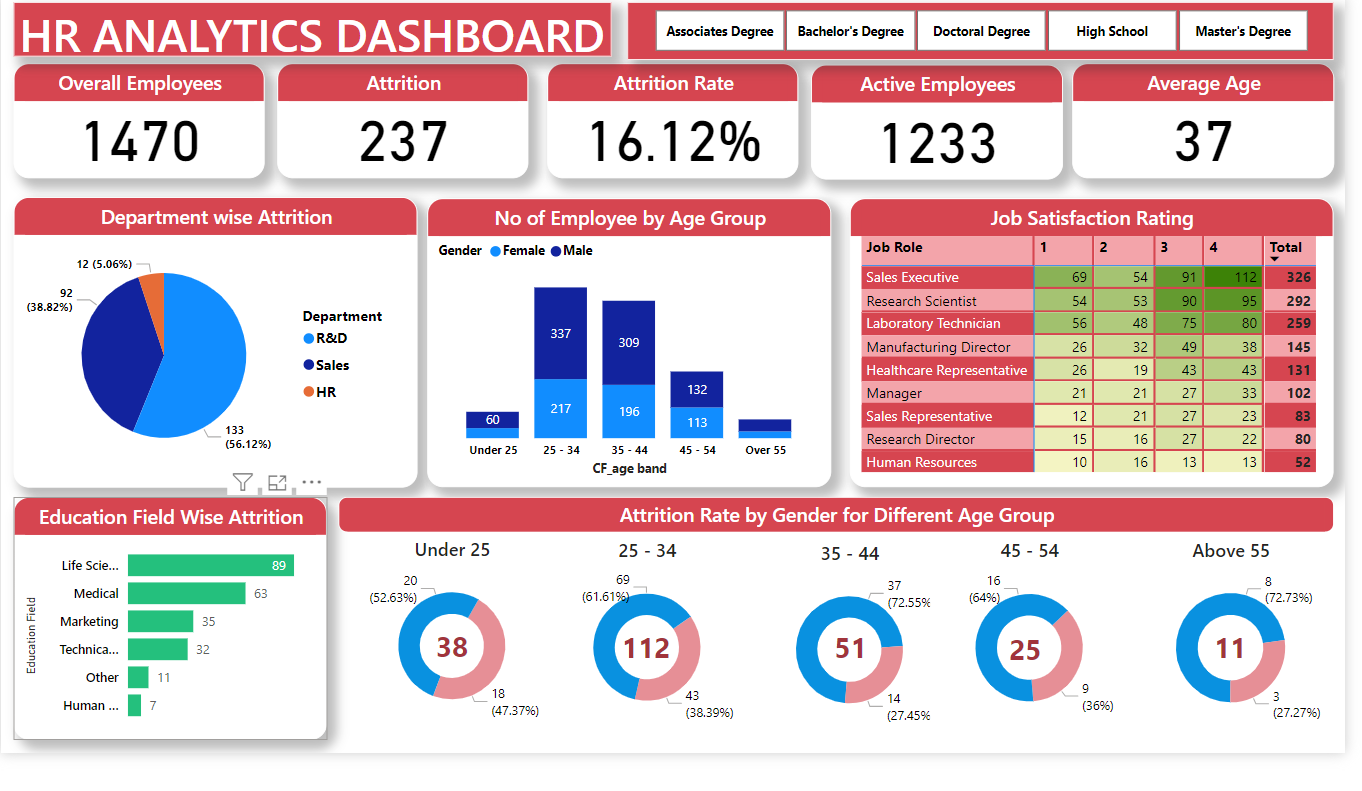

What the dashboard file says about the page in this screenshot:
{"tool":"powerbi","page":{"name":"Page 1","canvas":[1280,720],"ordinal":0},"visuals":[{"type":"card","title":"Overall Employees","fields":{"Values":["Sum(HR data.Employee Count)"]},"box":[12.3,63,239.5,109.9],"z":0},{"type":"card","title":"Attrition","fields":{"Values":["Sum(HR data.Attrition Count)"]},"box":[263,63,239.5,109.9],"z":1000},{"type":"card","title":"Attrition Rate","fields":{"Values":["HR data.Attrition rate"]},"box":[519.8,63,239.5,109.9],"z":2000},{"type":"card","title":"Active Employees","fields":{"Values":["HR data.Active employees"]},"box":[770.9,63.9,240.1,109.8],"z":3000},{"type":"card","title":"Average Age","fields":{"Values":["Avg(HR data.Age)"]},"box":[1019.8,63,249.4,109.9],"z":4000},{"type":"pieChart","title":"Department wise Attrition","fields":{"Category":["HR data.Department"],"Y":["Sum(HR data.Attrition Count)"]},"box":[12.3,190.1,385.2,276.5],"z":5000},{"type":"columnChart","title":"No of Employee by Age Group","fields":{"Category":["HR data.CF_age band"],"Y":["Sum(HR data.Employee Count)"],"Series":["HR data.Gender"]},"box":[406.2,191.4,385.2,275.3],"z":6000},{"type":"pivotTable","title":"Job Satisfaction Rating","fields":{"Rows":["HR data.Job Role"],"Columns":["HR data.Job Satisfaction"],"Values":["Sum(HR data.Employee Count)"]},"box":[808.6,191.4,460.5,275.3],"z":7000},{"type":"barChart","title":"Education Field Wise Attrition","fields":{"Category":["HR data.Education Field"],"Y":["Sum(HR data.Attrition Count)"]},"box":[12.3,476.5,298.8,230.9],"z":8000},{"type":"donutChart","title":"Under 25","fields":{"Category":["HR data.Gender"],"Y":["Sum(HR data.Attrition Count)"],"Series":["HR data.CF_age band"]},"box":[334.5,508.3,189.3,196.4],"z":9000},{"type":"textbox","title":"Attrition Rate by Gender for Different Age Group","box":[321,476.5,948.1,33.3],"z":10000},{"type":"donutChart","title":"25 - 34","fields":{"Category":["HR data.Gender"],"Y":["Sum(HR data.Attrition Count)"],"Series":["HR data.CF_age band"]},"box":[520,509.1,189.4,196.6],"z":11000},{"type":"donutChart","title":"35 - 44","fields":{"Category":["HR data.Gender"],"Y":["Sum(HR data.Attrition Count)"],"Series":["HR data.CF_age band"]},"box":[713,511.5,189.4,196.6],"z":12000},{"type":"donutChart","title":"45 - 54","fields":{"Category":["HR data.Gender"],"Y":["Sum(HR data.Attrition Count)"],"Series":["HR data.CF_age band"]},"box":[884,509.9,188.9,197.5],"z":13000},{"type":"donutChart","title":"Above 55","fields":{"Category":["HR data.Gender"],"Y":["Sum(HR data.Attrition Count)"],"Series":["HR data.CF_age band"]},"box":[1072.8,509.9,196.3,197.5],"z":14000},{"type":"card","fields":{"Values":["Sum(HR data.Attrition Count)"]},"box":[394,591.7,71.4,54.8],"z":15000},{"type":"card","fields":{"Values":["Sum(HR data.Attrition Count)"]},"box":[580.3,592.4,70,55.5],"z":16000},{"type":"card","fields":{"Values":["Sum(HR data.Attrition Count)"]},"box":[773.3,592.4,71.2,55.5],"z":17000},{"type":"card","fields":{"Values":["Sum(HR data.Attrition Count)"]},"box":[940.7,593.8,70.4,55.6],"z":18000},{"type":"card","fields":{"Values":["Sum(HR data.Attrition Count)"]},"box":[1135.8,592.6,70.4,55.6],"z":19000},{"type":"textbox","title":"HR ANALYTICS DASHBOARD","box":[12.1,4.8,569.4,51.9],"z":20000},{"type":"slicer","fields":{"Values":["HR data.Education"]},"box":[596.8,4.8,672.6,54.8],"z":21000}]}

Visuals, with their boxes on the page's 1280x720 design canvas (x1, y1, x2, y2). These are canvas units, not pixel positions in the 1362x791 screenshot, which may show the page scaled, cropped or inside an application window:
"Overall Employees" card: 12/63/252/173
"Attrition" card: 263/63/502/173
"Attrition Rate" card: 520/63/759/173
"Active Employees" card: 771/64/1011/174
"Average Age" card: 1020/63/1269/173
"Department wise Attrition" pieChart: 12/190/398/467
"No of Employee by Age Group" columnChart: 406/191/791/467
"Job Satisfaction Rating" pivotTable: 809/191/1269/467
"Education Field Wise Attrition" barChart: 12/476/311/707
"Under 25" donutChart: 334/508/524/705
"Attrition Rate by Gender for Different Age Group" textbox: 321/476/1269/510
"25 - 34" donutChart: 520/509/709/706
"35 - 44" donutChart: 713/512/902/708
"45 - 54" donutChart: 884/510/1073/707
"Above 55" donutChart: 1073/510/1269/707
card - Sum(HR data.Attrition Count): 394/592/465/646
card - Sum(HR data.Attrition Count): 580/592/650/648
card - Sum(HR data.Attrition Count): 773/592/844/648
card - Sum(HR data.Attrition Count): 941/594/1011/649
card - Sum(HR data.Attrition Count): 1136/593/1206/648
"HR ANALYTICS DASHBOARD" textbox: 12/5/582/57
slicer - HR data.Education: 597/5/1269/60
